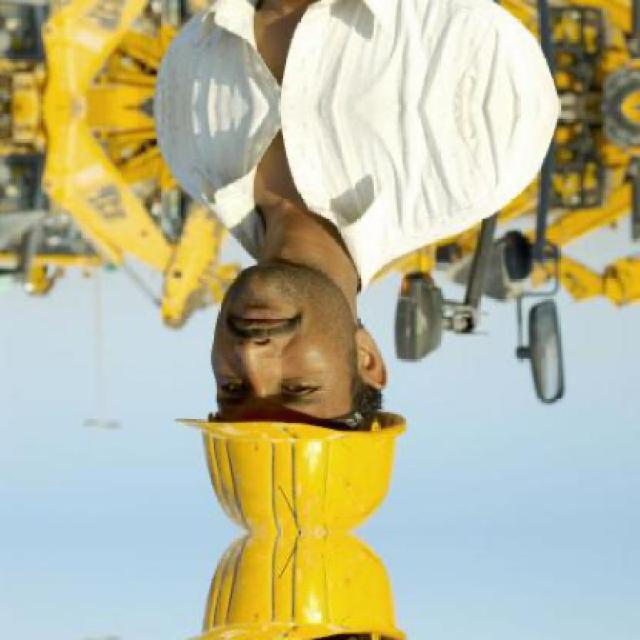con casco: (187, 235, 399, 534)
